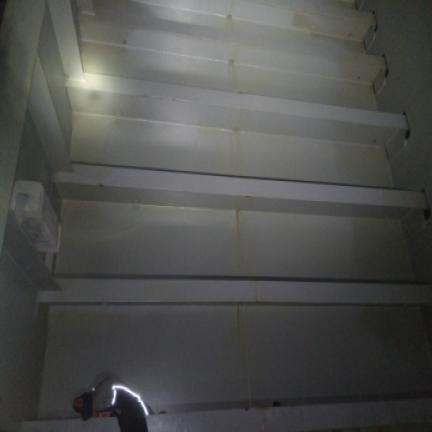karat: (237, 304, 239, 336), (235, 210, 239, 225)
